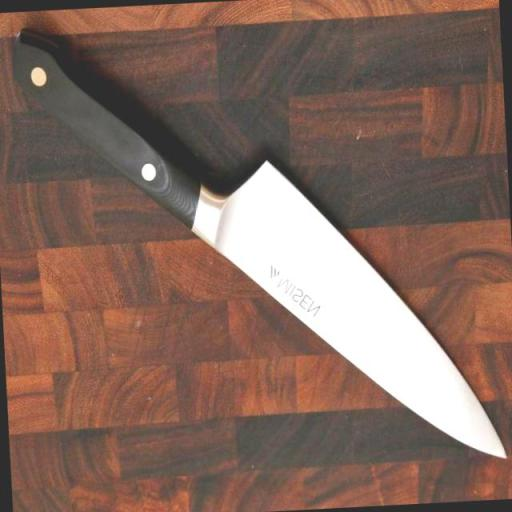knife: (186, 140, 512, 483)
